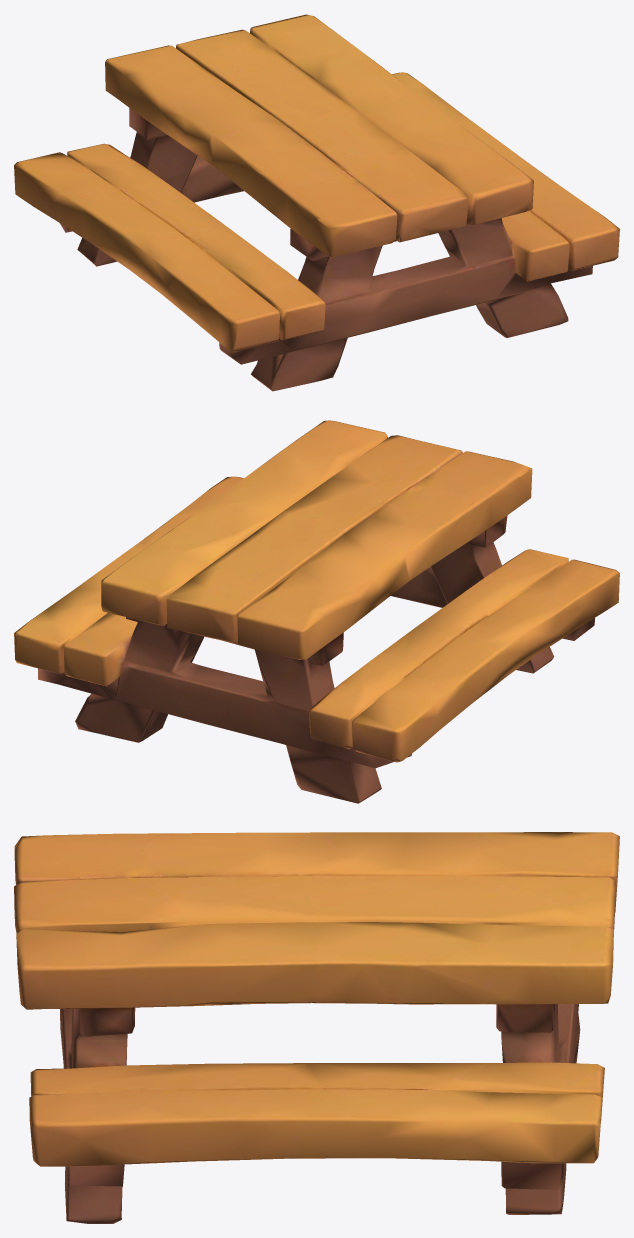
The model's file is picnic-table.glb.
3 views of the same model, one above another, from view 1: azimuth 30°, elevation 25°; view 2: azimuth 150°, elevation 25°; view 3: azimuth 270°, elevation 25° (orthographic). The views are drawn at different scales.
Visible parts, largest first — view 1: tripo_node_6abd07d6-d015-4c46-99e6-1d994e2bed99; view 2: tripo_node_6abd07d6-d015-4c46-99e6-1d994e2bed99; view 3: tripo_node_6abd07d6-d015-4c46-99e6-1d994e2bed99.
Boxes of the visible parts, x1,y1,x2,y2 form: tripo_node_6abd07d6-d015-4c46-99e6-1d994e2bed99: (14, 14, 619, 391); tripo_node_6abd07d6-d015-4c46-99e6-1d994e2bed99: (14, 420, 619, 803); tripo_node_6abd07d6-d015-4c46-99e6-1d994e2bed99: (14, 832, 619, 1223).
Bounding box in the file's own units: 0.9781 × 0.4217 × 1.
Materials: 1 (1 with a texture image).
